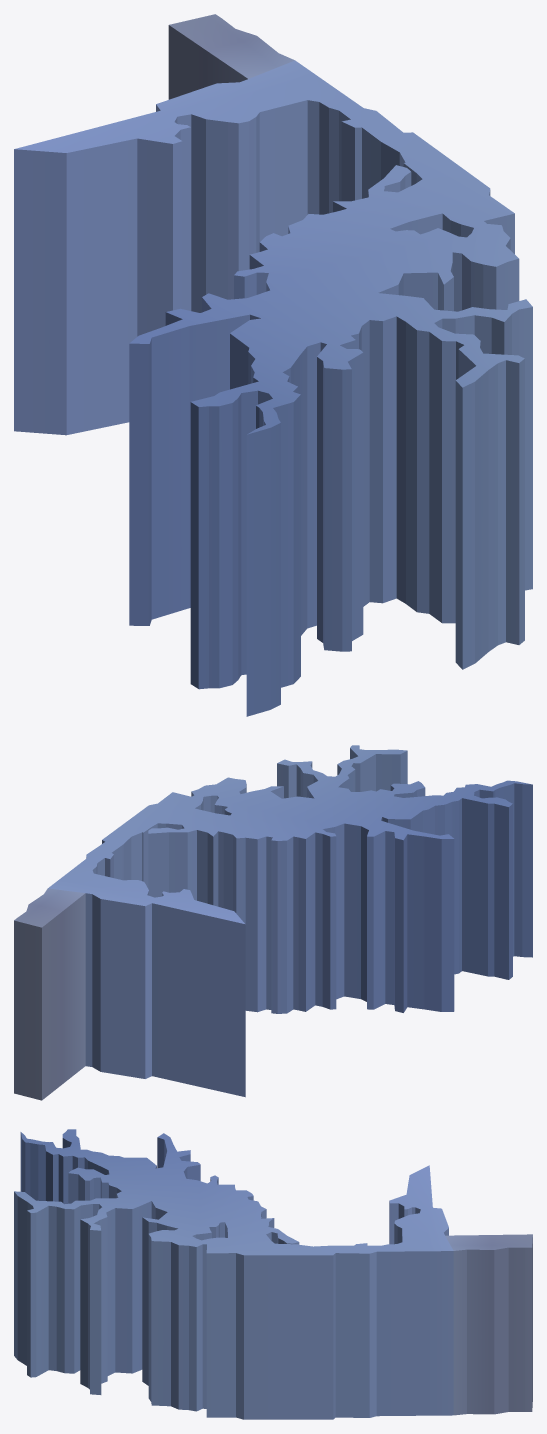
File: monmouth river.glb
The picture shows the model from 3 angles, top to bottom: view 1: azimuth 30°, elevation 25°; view 2: azimuth 150°, elevation 25°; view 3: azimuth 270°, elevation 25°; orthographic projection. The views are drawn at different scales.
Visible parts, largest first — view 1: Plane.038; view 2: Plane.038; view 3: Plane.038.
Part boxes in pixels (x1,y1,x2,y2): Plane.038: (14, 14, 532, 716); Plane.038: (14, 745, 532, 1100); Plane.038: (14, 1129, 532, 1419).
Size of the model in its own units: 0.6345 by 0.3856 by 1.1.
1 material, 1 textured.
